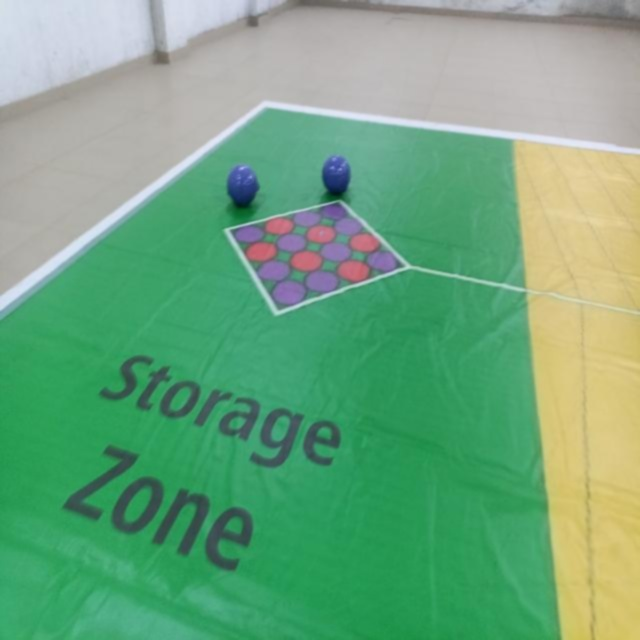purple_ball: (224, 162, 264, 214), (320, 151, 353, 200)
